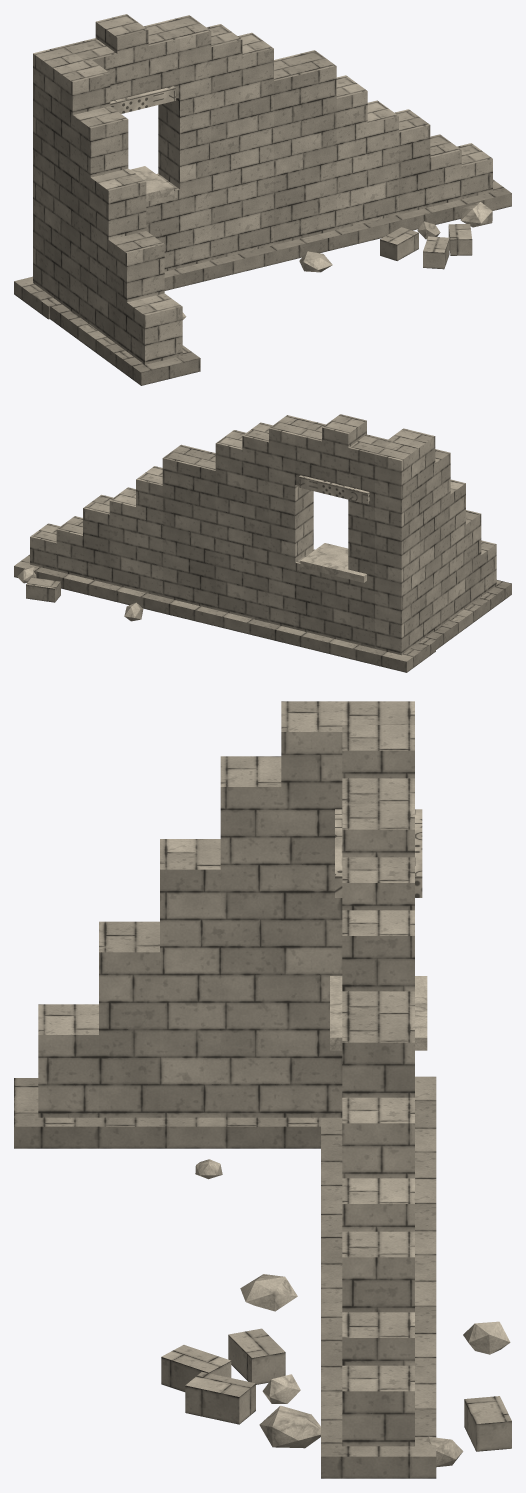
The model's file is ruin-wall.glb.
3 views of the same model, one above another, from view 1: azimuth 30°, elevation 25°; view 2: azimuth 150°, elevation 25°; view 3: azimuth 270°, elevation 25° (orthographic). The views are drawn at different scales.
Visible parts, largest first — view 1: ruin-wall; view 2: ruin-wall; view 3: ruin-wall.
Part boxes in pixels (x1=…): ruin-wall: x1=14, y1=14, x2=511, y2=385; ruin-wall: x1=14, y1=414, x2=511, y2=672; ruin-wall: x1=14, y1=701, x2=511, y2=1478.
Bounding box in the file's own units: 7.4 × 3.95 × 4.1.
Materials: 3 (3 with a texture image).
